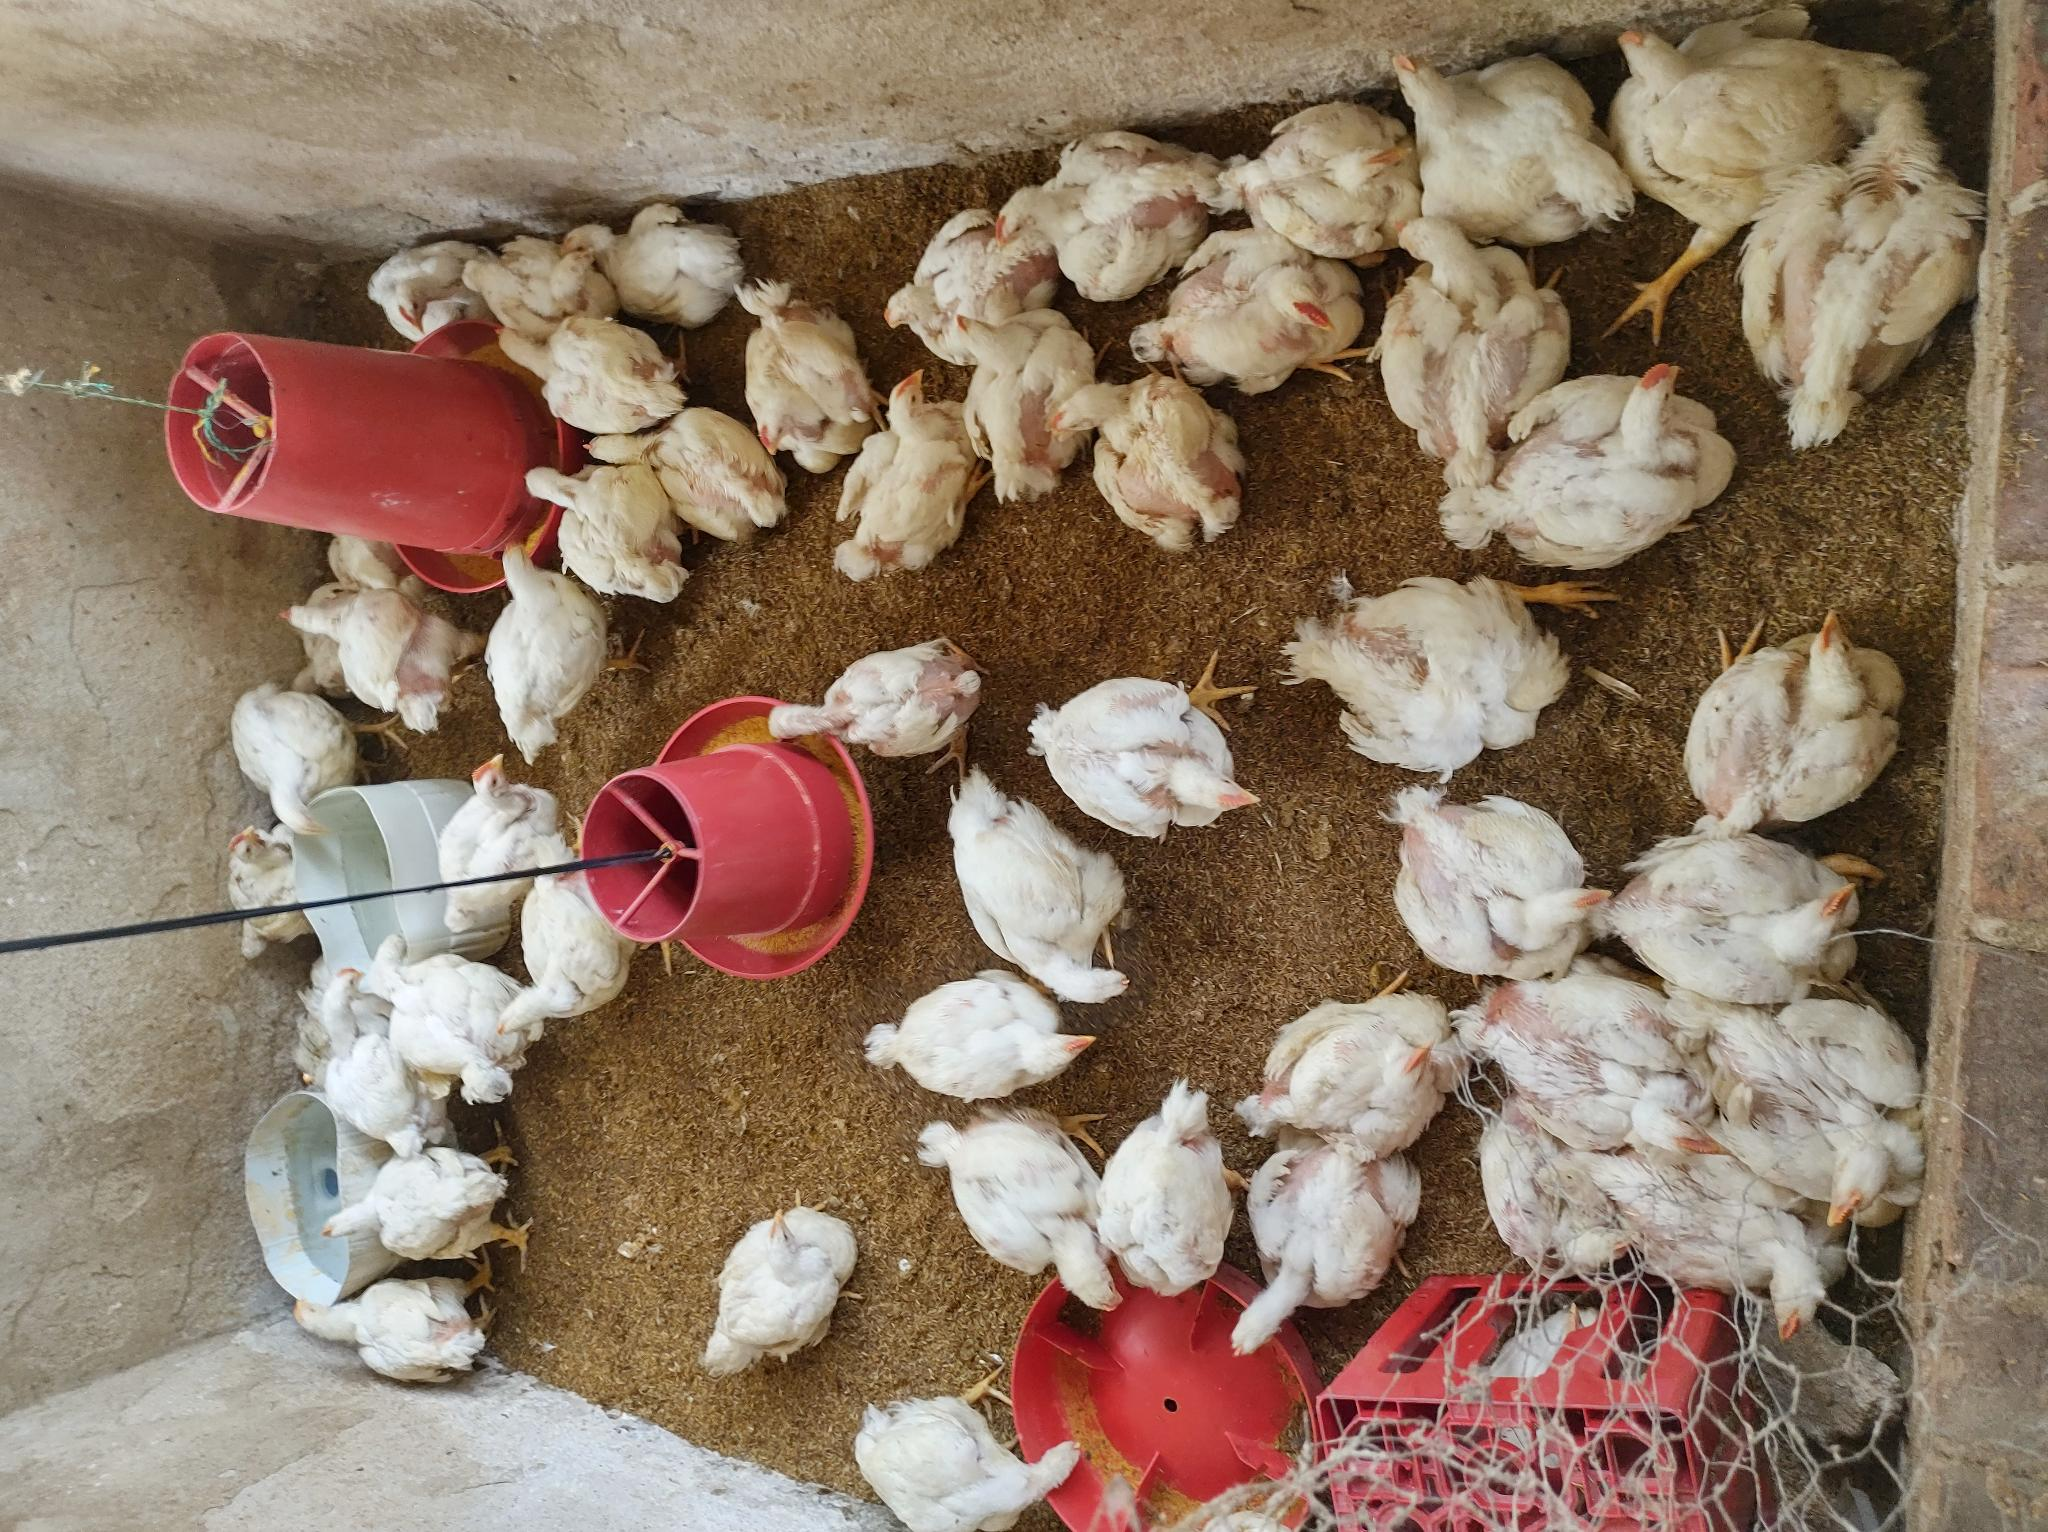Pollos: (1733, 85, 1977, 441), (1602, 11, 1919, 222), (1684, 974, 1931, 1238), (1433, 352, 1733, 562), (1665, 600, 1914, 829), (1599, 1122, 1847, 1349), (1459, 959, 1731, 1163), (1293, 574, 1557, 769), (1372, 204, 1557, 468), (933, 768, 1133, 1004), (1221, 1130, 1422, 1363), (1385, 42, 1625, 237), (919, 1109, 1126, 1316), (1026, 671, 1261, 842), (989, 126, 1207, 307), (1614, 827, 1847, 995), (1036, 364, 1244, 550), (1380, 793, 1591, 975), (1125, 232, 1356, 389), (1248, 995, 1462, 1163), (845, 1389, 1088, 1532), (1219, 89, 1421, 257), (755, 628, 981, 777), (861, 964, 1099, 1102), (825, 360, 973, 583), (1096, 1077, 1244, 1297), (1472, 1096, 1646, 1281), (574, 397, 787, 546), (940, 299, 1096, 500), (492, 834, 632, 1048), (698, 1196, 856, 1382), (729, 280, 874, 483), (874, 208, 1055, 364), (367, 930, 533, 1101), (479, 537, 602, 764), (265, 597, 462, 734), (515, 455, 689, 607), (282, 1271, 504, 1386), (484, 315, 689, 438), (307, 964, 433, 1159), (219, 681, 356, 851), (441, 745, 563, 932), (566, 206, 743, 335), (315, 1152, 504, 1262), (463, 229, 607, 332), (359, 237, 484, 349), (219, 822, 314, 932)
